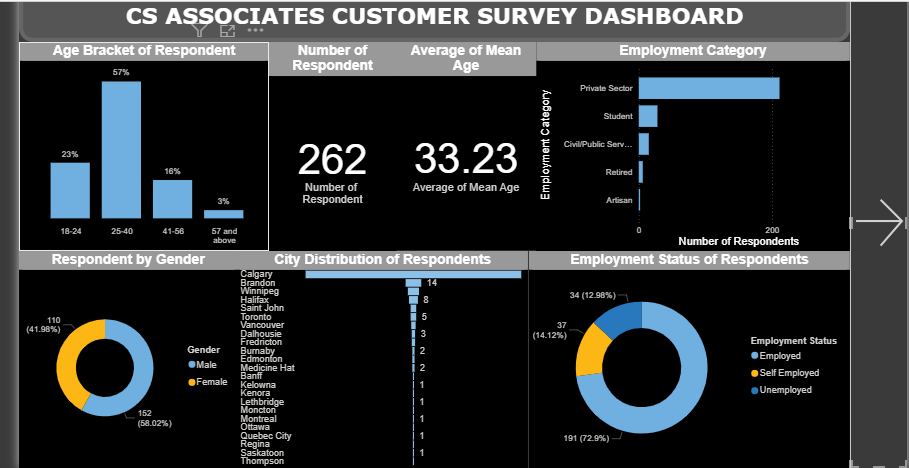

What the dashboard file says about the page in this screenshot:
{"tool":"powerbi","page":{"name":"Demographics","canvas":[1280,720],"ordinal":0},"visuals":[{"type":"card","title":"Number of Respondent","fields":{"Values":["CountNonNull(Respondent.RespondentID)"]},"box":[378.3,105,146.7,301.7],"z":0},{"type":"donutChart","title":"Respondent by Gender","fields":{"Category":["Respondent.Gender"],"Y":["CountNonNull(Respondent.Gender)"]},"box":[0,405.8,314.5,314.5],"z":1000},{"type":"columnChart","title":"Age Bracket of Respondent","fields":{"Category":["Respondent.Age Bracket"],"Y":["CountNonNull(Respondent.Age Bracket)"]},"box":[0,105.1,378.7,301],"z":2000},{"type":"donutChart","title":"Employment Status of Respondents","fields":{"Category":["Respondent.Employment Status"],"Y":["CountNonNull(Respondent.Employment Status)"]},"box":[734.4,406.1,462.2,313.9],"z":3000},{"type":"barChart","title":"Employment Category","fields":{"Category":["Respondent.Employment Category"],"Y":["CountNonNull(Respondent.RespondentID)"]},"box":[699.8,105.1,496.8,301],"z":4000},{"type":"funnel","title":"City Distribution of Respondents","fields":{"Category":["Respondent.City"],"Y":["CountNonNull(Respondent.City)"]},"box":[314.5,405.8,419.3,314.5],"z":5000},{"type":"textbox","box":[0,0,1197.1,104.8],"z":6000},{"type":"actionButton","box":[1196.6,11.5,83.5,708.5],"z":7000},{"type":"card","title":"Average of Mean Age","fields":{"Values":["Avg(Respondent.Average Age)"]},"box":[525.6,105.1,174.2,299.5],"z":9000}]}

Visuals, with their boxes on the page's 1280x720 design canvas (x1, y1, x2, y2). These are canvas units, not pixel positions in the 909x468 screenshot, which may show the page scaled, cropped or inside an application window:
"Number of Respondent" card: 378 105 525 407
"Respondent by Gender" donutChart: 0 406 314 720
"Age Bracket of Respondent" columnChart: 0 105 379 406
"Employment Status of Respondents" donutChart: 734 406 1197 720
"Employment Category" barChart: 700 105 1197 406
"City Distribution of Respondents" funnel: 314 406 734 720
textbox: 0 0 1197 105
actionButton: 1197 12 1280 720
"Average of Mean Age" card: 526 105 700 405
